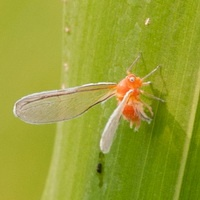insect: (13, 55, 164, 153)
